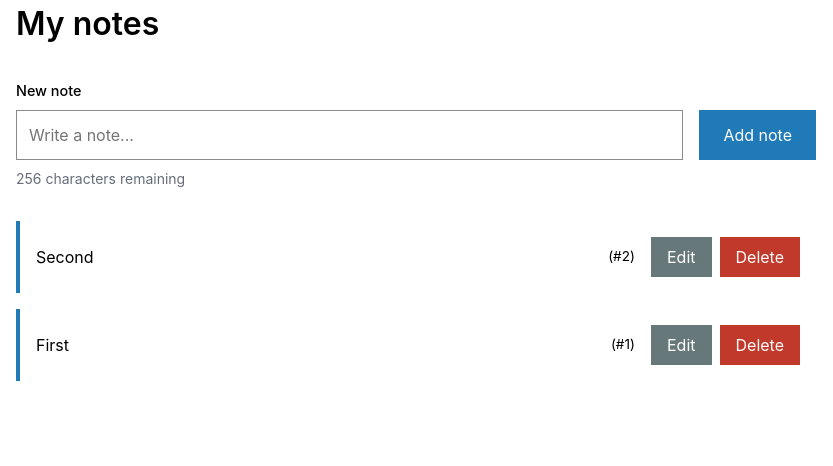
Test: NotesPage › editing a note › drops the change on the Cancel button and returns focus to Edit
The image size is (833, 466).
Click the button with aria-label "Edit note #1": (681, 345) [651,325,712,365]
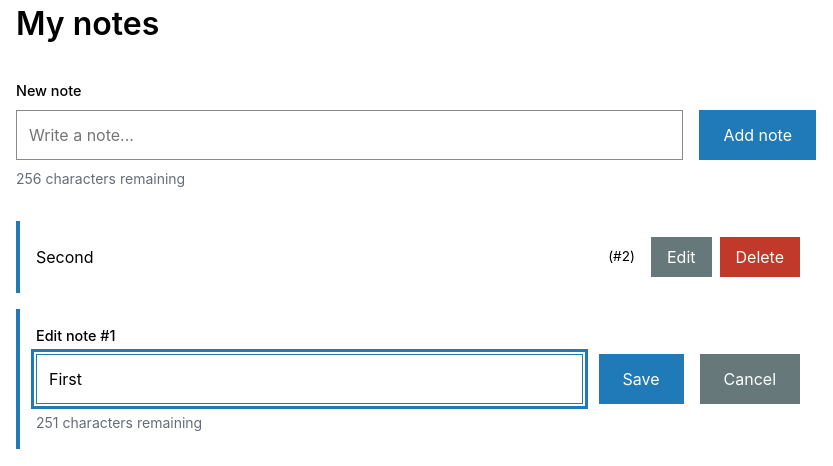
In the field labelled "Edit note #1": (309, 379) [36,354,582,404], type " changed"
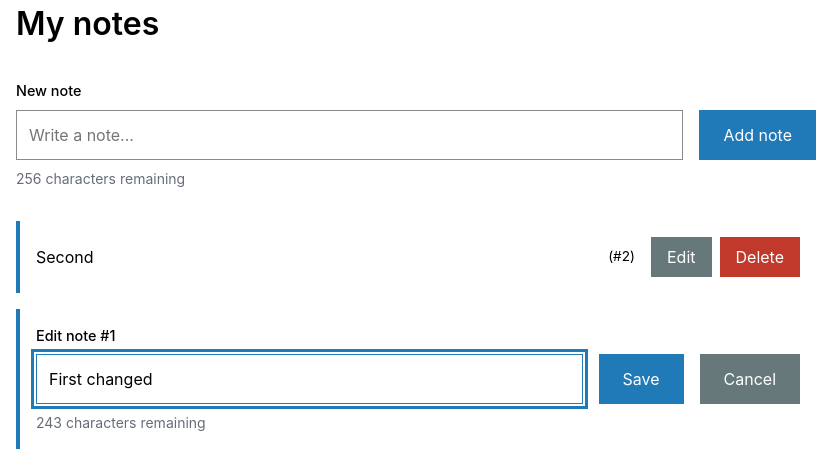
Click the button "Cancel": (750, 379) [700,354,800,404]
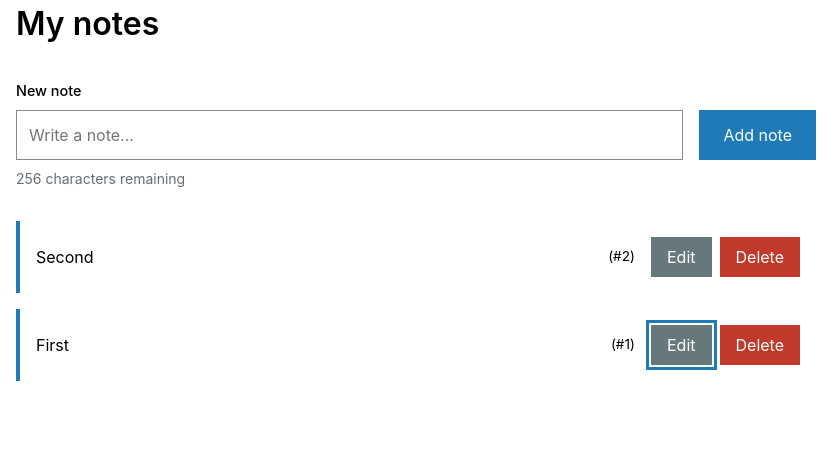
Expected: the label "Edit note #1" is gone
